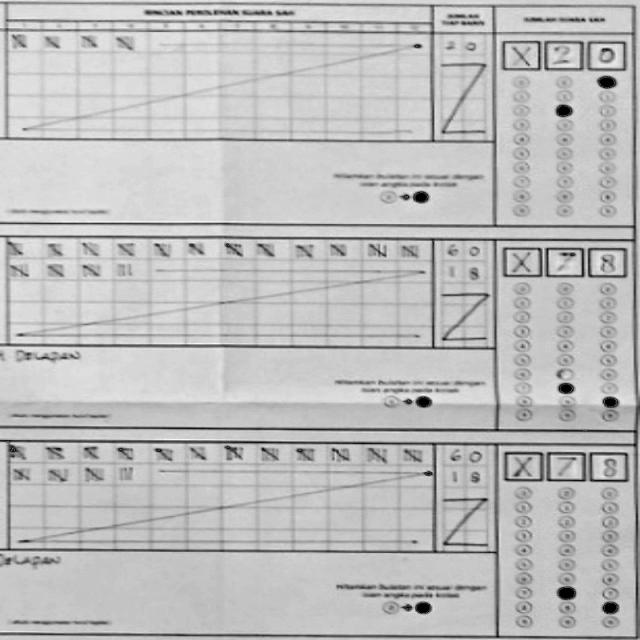Suara: (503, 442, 627, 483), (496, 243, 627, 279), (496, 38, 622, 70)
